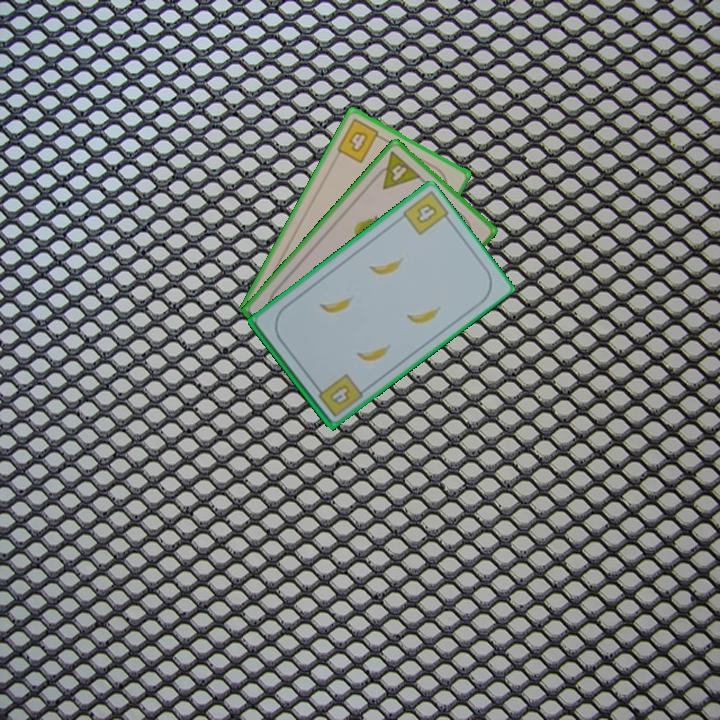4b: (333, 115, 387, 166), (311, 370, 366, 420), (413, 199, 440, 226)
4p: (369, 147, 424, 192)
